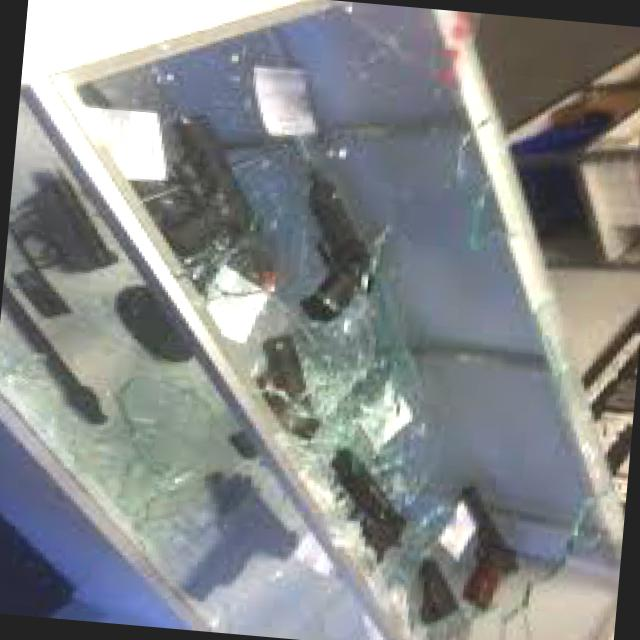handgun: (308, 436, 442, 589), (157, 97, 279, 261), (294, 168, 416, 329), (218, 326, 356, 464), (441, 475, 564, 614)
